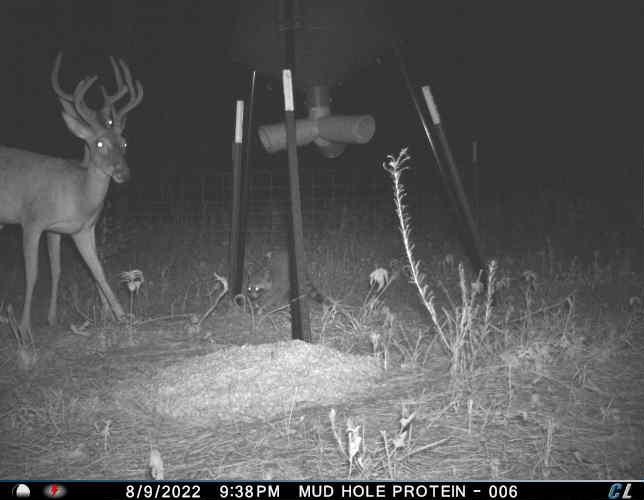Deer: (2, 50, 156, 341)
Raccoon: (243, 243, 341, 320)
